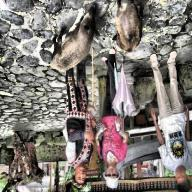boar: (51, 3, 103, 73), (108, 0, 148, 60)
